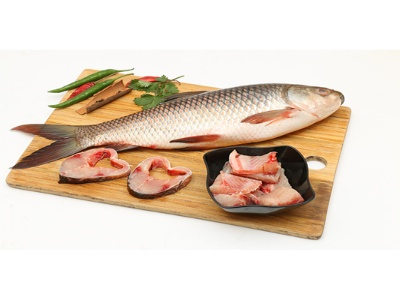rohu: (2, 74, 344, 168)
